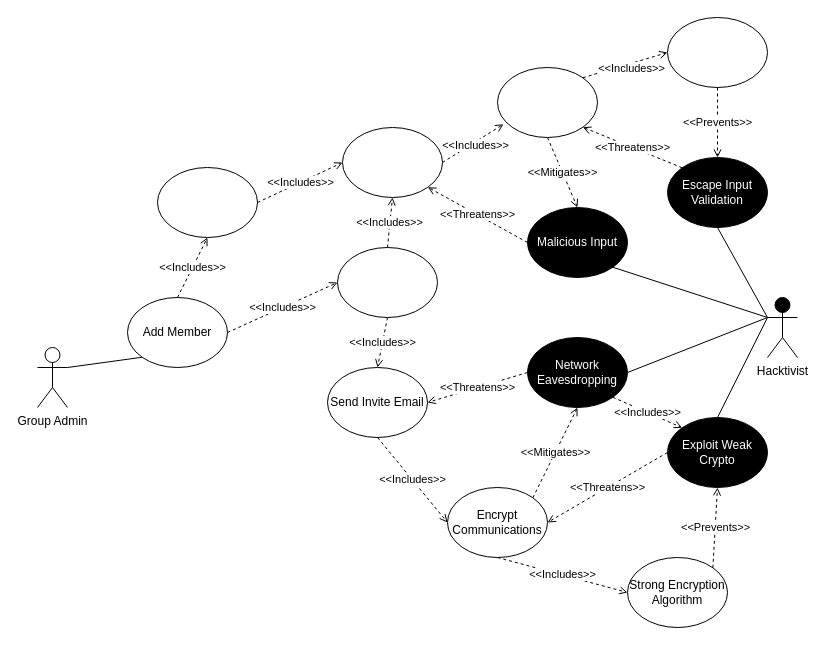
The diagram is 825 pixels wide and 645 high, and some of its shapes have lost their labels. The centre of each missing label's shape, as x and y in pixels:
Accept User: pixel 207 202
Input Sanitation: pixel 717 52
Input Validation: pixel 547 102
Invite User: pixel 387 282
Take User Input: pixel 392 162
